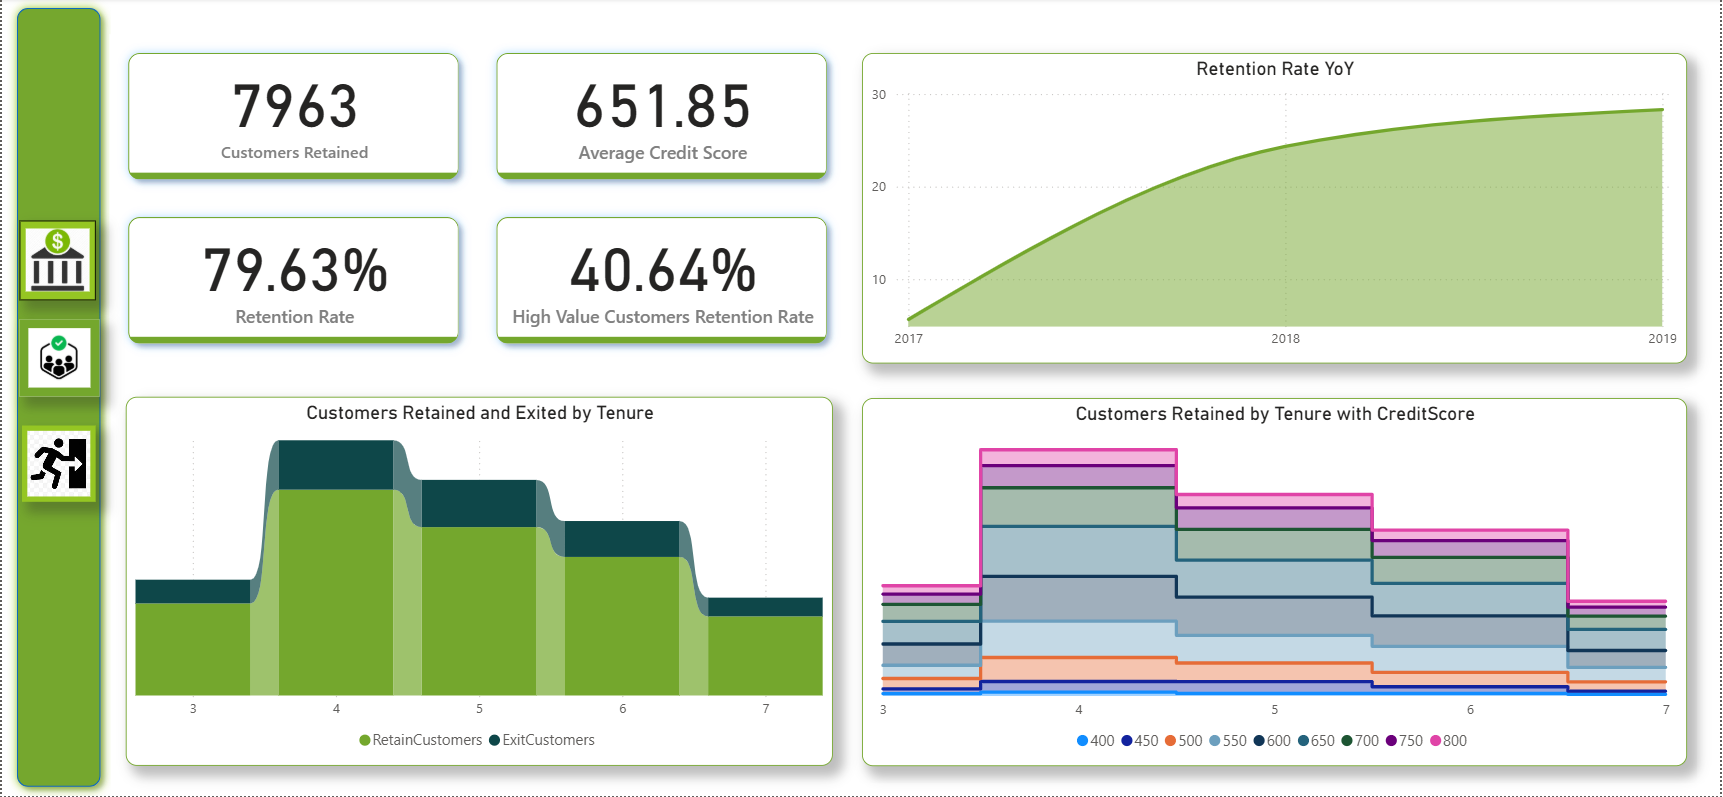

Layout of this report page (visuals, bound fields, positions):
{"tool":"powerbi","page":{"name":"Retained Customers","canvas":[1550,720],"ordinal":1},"visuals":[{"type":"lineChart","title":"Retention Rate YoY ","fields":{"Category":["Date.Year"],"Y":["Bank_Churn.RetentionRateYoY"]},"box":[775,49.8,743.9,279.9],"z":0},{"type":"shape","box":[4.2,0,93.3,720.3],"z":1000},{"type":"cardVisual","fields":{"Data":["Bank_Churn.RetainCustomers","Bank_Churn.Average_Credit_Score_Retained","Bank_Churn.Retained Customers","Bank_Churn.High Value Customer Retained"]},"box":[97.3,32.4,665.8,296.2],"z":2000},{"type":"image","box":[18.3,385.1,66.3,69.1],"z":3000},{"type":"columnChart","title":"Customers Retained and Exited by Tenure","fields":{"Category":["Bank_Churn.Tenure"],"Y":["Bank_Churn.RetainCustomers","Bank_Churn.ExitCustomers"]},"box":[111.4,359.7,637.6,332.9],"z":4000},{"type":"image","box":[15.5,200.3,69.1,71.9],"z":5000},{"type":"stackedAreaChart","title":"Customers Retained by Tenure with CreditScore ","fields":{"Category":["Bank_Churn.Tenure"],"Series":["Bank_Churn.CreditScore (bins)"],"Y":["Bank_Churn.RetainCustomers"]},"box":[775,360.7,743.9,332.1],"z":6000},{"type":"image","box":[15.4,290.1,72.2,69.7],"z":7000}]}

Visuals, with their boxes on the page's 1550x720 design canvas (x1, y1, x2, y2). These are canvas units, not pixel positions in the 1723x797 screenshot, which may show the page scaled, cropped or inside an application window:
"Retention Rate YoY " lineChart: x1=775, y1=50, x2=1519, y2=330
shape: x1=4, y1=0, x2=98, y2=720
cardVisual - Bank_Churn.RetainCustomers x Bank_Churn.Average_Credit_Score_Retained: x1=97, y1=32, x2=763, y2=329
image: x1=18, y1=385, x2=85, y2=454
"Customers Retained and Exited by Tenure" columnChart: x1=111, y1=360, x2=749, y2=693
image: x1=16, y1=200, x2=85, y2=272
"Customers Retained by Tenure with CreditScore " stackedAreaChart: x1=775, y1=361, x2=1519, y2=693
image: x1=15, y1=290, x2=88, y2=360
